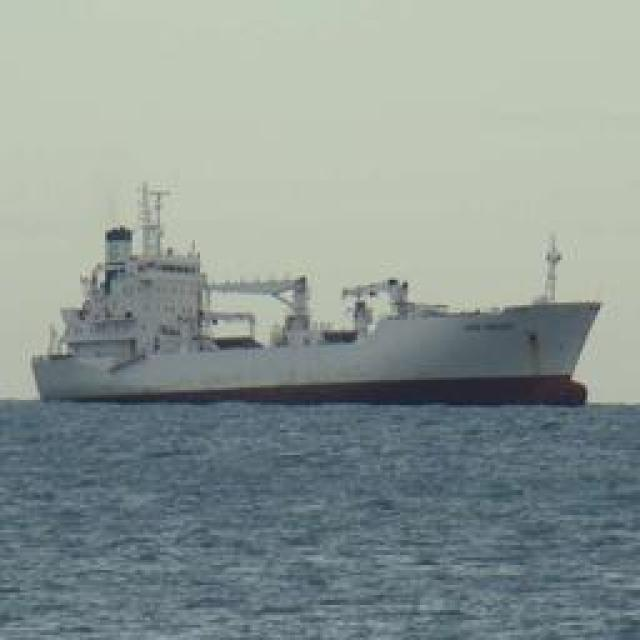CIV_Ship: (39, 225, 602, 408)
